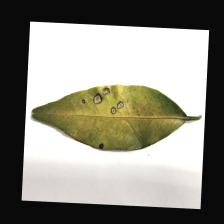canker: (66, 79, 142, 117)
